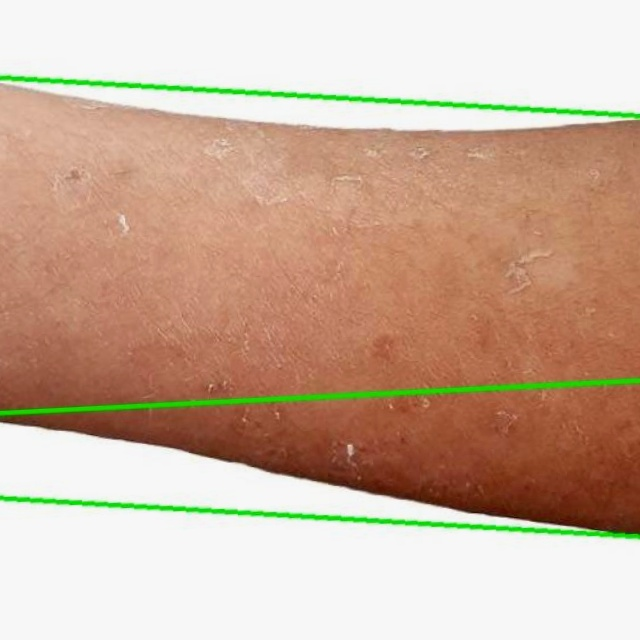Tinea Corporis: (0, 78, 639, 537), (0, 380, 639, 639)
